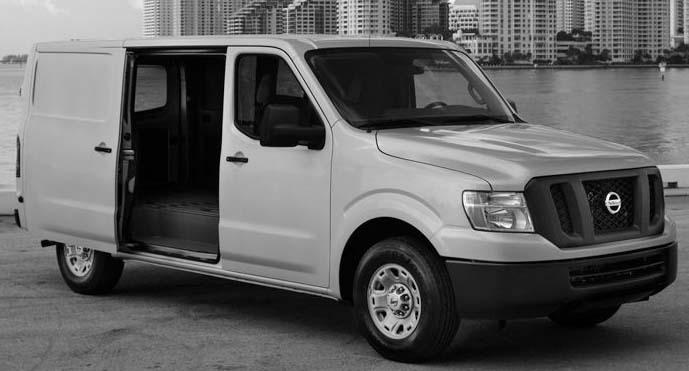car: (11, 25, 687, 365)
